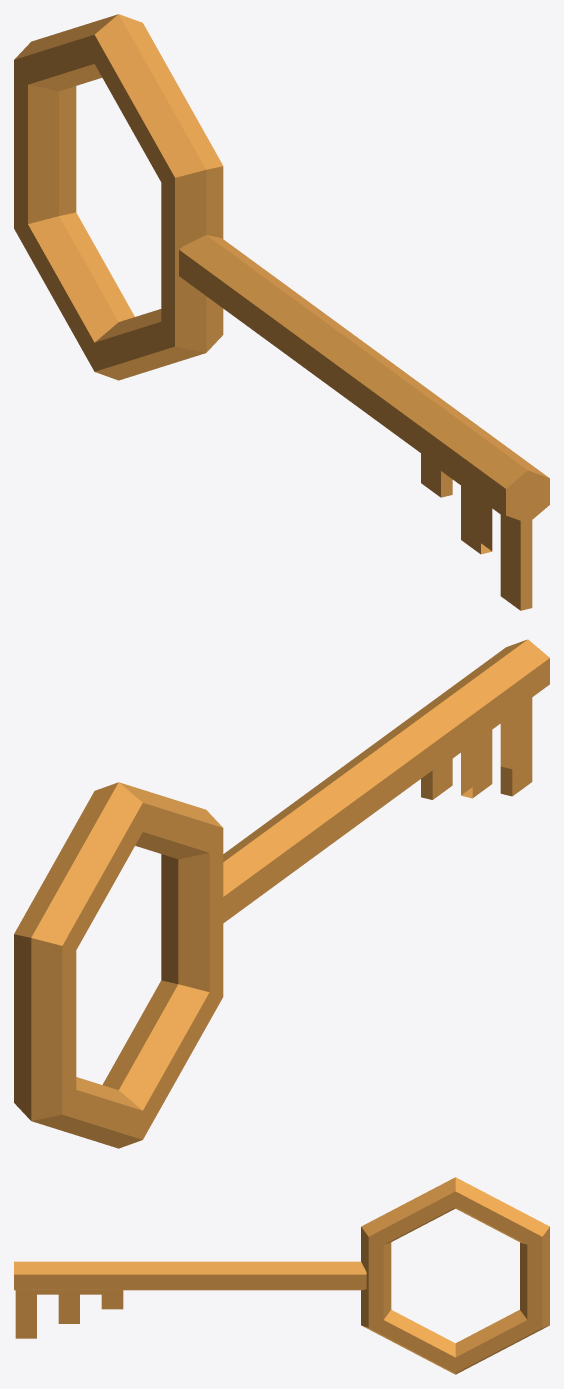
The model's file is anahtarr (1).fbx.
3 renders of one model, top to bottom at view 1: azimuth 30°, elevation 25°; view 2: azimuth 150°, elevation 25°; view 3: azimuth 270°, elevation 25°, orthographic. The views are drawn at different scales.
Visible parts, largest first — view 1: Cylinder.001; view 2: Cylinder.001; view 3: Cylinder.001.
Part boxes in pixels (x1,y1,x2,y2): Cylinder.001: [14, 14, 549, 610]; Cylinder.001: [14, 639, 549, 1148]; Cylinder.001: [14, 1177, 549, 1374].
Size of the model in its own units: 6.73 by 48.74 by 120.
